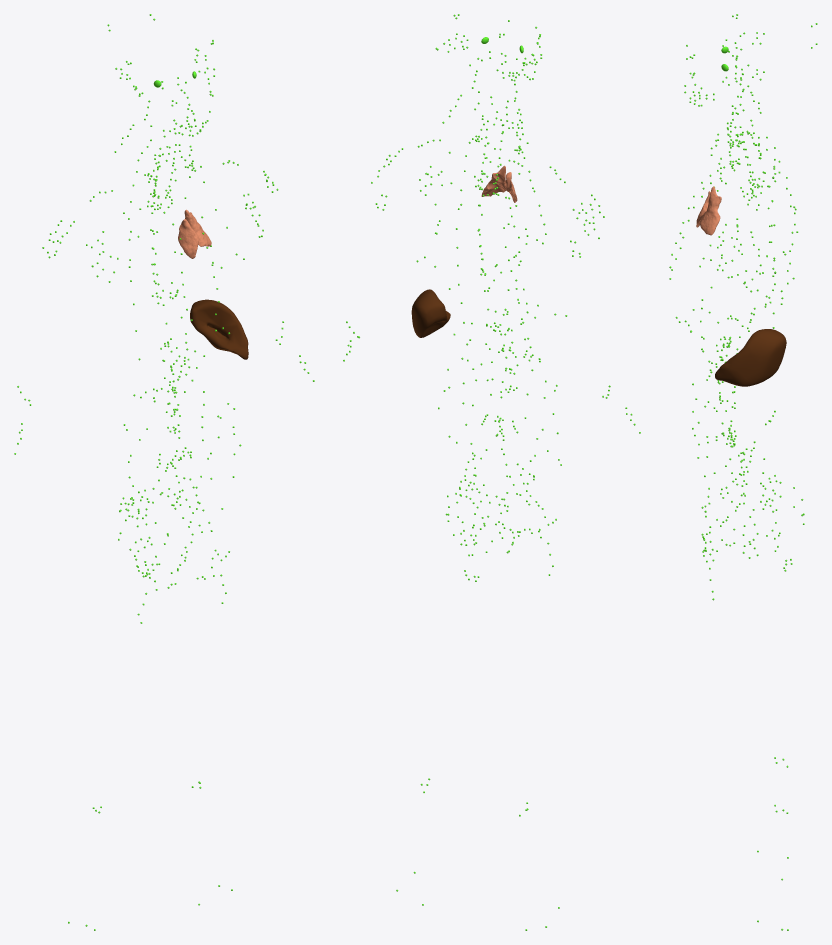
The model's file is lymphatic.glb.
The picture shows the model from 3 angles, left to right: view 1: azimuth 30°, elevation 25°; view 2: azimuth 150°, elevation 25°; view 3: azimuth 270°, elevation 25°; orthographic projection.
Visible parts, largest first — view 1: Spleen surface 0; view 2: Spleen surface 0; view 3: Spleen surface 0, Left lobe of thymus surface 0.
Part boxes in pixels (left/top/right/bottom): Spleen surface 0: left=190, top=299, right=248, bottom=359; Spleen surface 0: left=411, top=289, right=450, bottom=337; Spleen surface 0: left=715, top=329, right=786, bottom=386; Left lobe of thymus surface 0: left=699, top=186, right=721, bottom=235.
Size of the model in its own units: 0.4523 by 1.28 by 0.1963.
